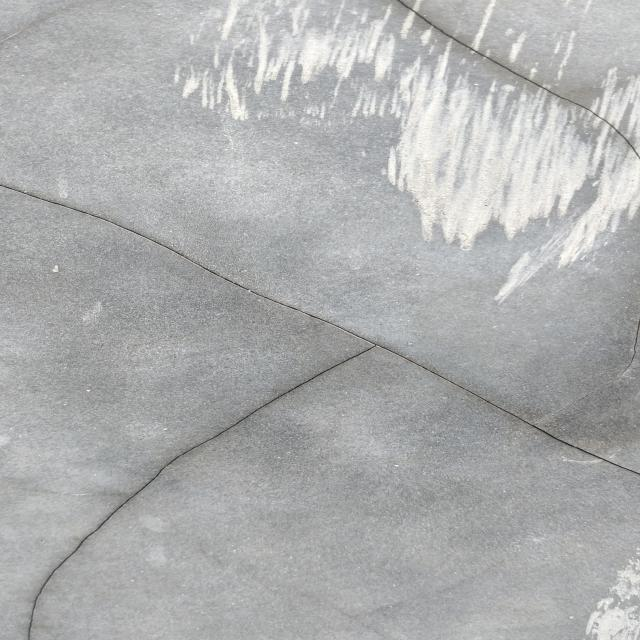Crack: (8, 179, 640, 640)
